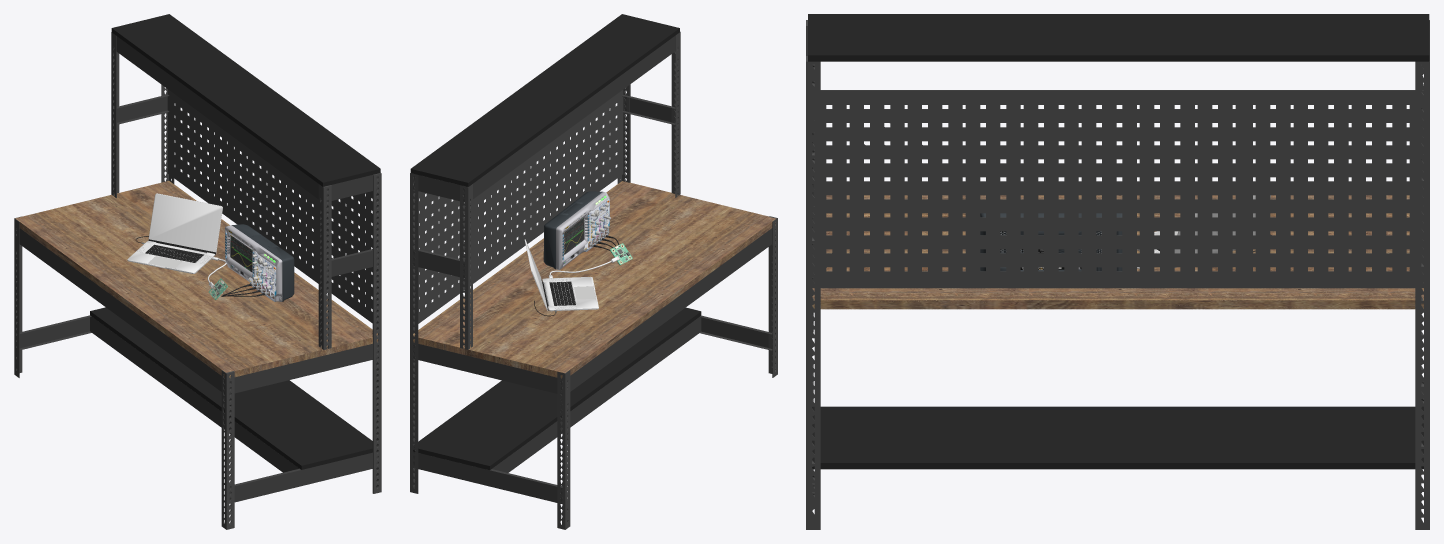
Rendered from PortfolioScene.glb.
The picture shows the model from 3 angles, left to right: view 1: azimuth 30°, elevation 25°; view 2: azimuth 150°, elevation 25°; view 3: azimuth 270°, elevation 25°; orthographic projection. The views are drawn at different scales.
Parts seen in each view (by area): view 1: Bench, cavo.005, Control field.right, Body1.209, Back handle, Body10.006, Screen, Screen.001; view 2: Bench, Control field.right, Body1.209, Back handle, Body10.006, Screen, Screen.001, cavo.005; view 3: Bench, Back handle.
Part boxes in pixels (x1,y1,x2,y2): Bench: [14, 14, 381, 529]; cavo.005: [148, 193, 226, 286]; Control field.right: [225, 225, 282, 301]; Body1.209: [127, 193, 222, 273]; Back handle: [232, 224, 294, 301]; Body10.006: [135, 236, 215, 262]; Screen: [230, 235, 252, 272]; Screen.001: [230, 235, 251, 271]; Bench: [410, 14, 777, 529]; Control field.right: [556, 192, 609, 269]; Body1.209: [524, 239, 598, 311]; Back handle: [543, 191, 602, 269]; Body10.006: [534, 279, 575, 316]; Screen: [564, 217, 584, 254]; Screen.001: [564, 217, 584, 254]; cavo.005: [525, 239, 617, 308]; Bench: [806, 14, 1429, 529]; Back handle: [980, 213, 1122, 271].
Size of the model in its own units: 0.7795 by 1.55 by 1.85.
Materials: 74 (20 with a texture image).
